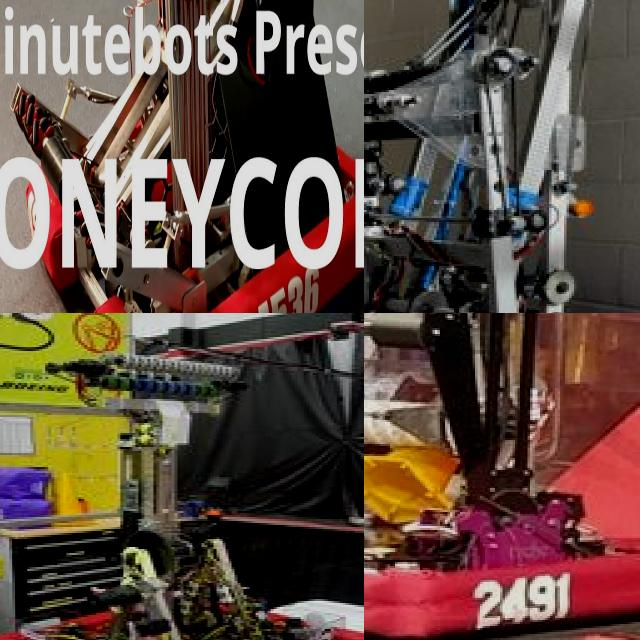FRC-Robots: (0, 313, 364, 640), (33, 0, 364, 313), (364, 313, 640, 640), (364, 0, 640, 313)
